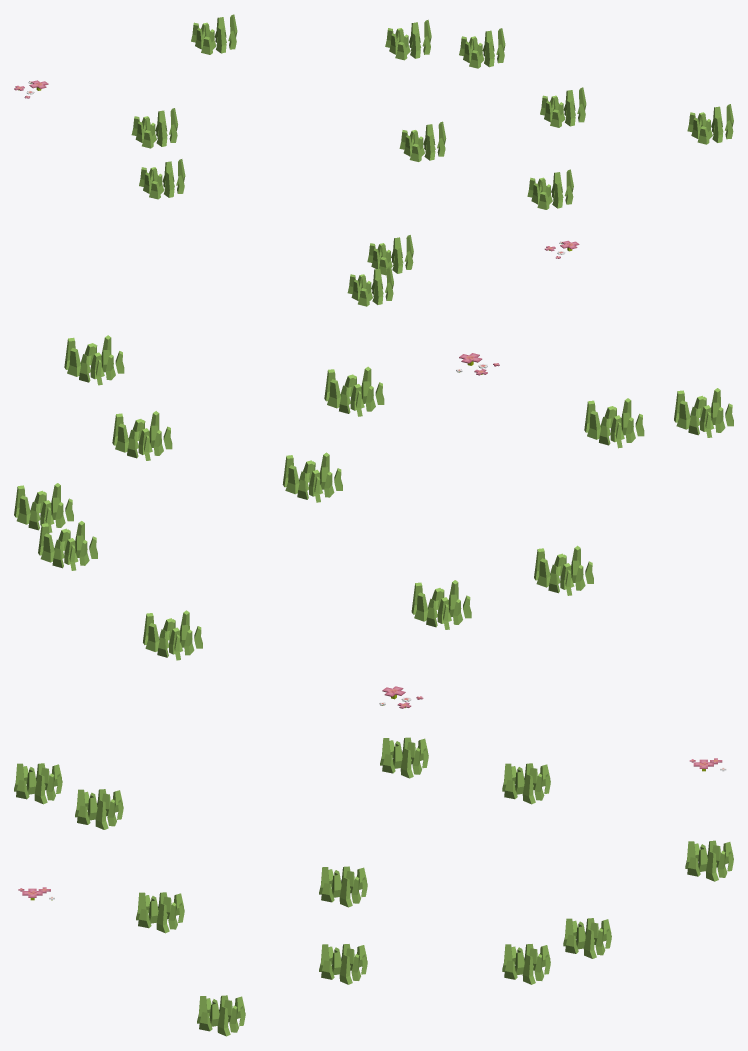
File: flower_grass 5.fbx
The picture shows the model from 3 angles, top to bottom: view 1: azimuth 30°, elevation 25°; view 2: azimuth 150°, elevation 25°; view 3: azimuth 270°, elevation 25°; orthographic projection. The views are drawn at different scales.
Parts seen in each view (by area): view 1: Grass_1; view 2: Grass_1; view 3: Grass_1.
Part boxes in pixels (x1,y1,x2,y2): Grass_1: (14, 14, 733, 306); Grass_1: (14, 335, 733, 708); Grass_1: (14, 737, 733, 1036).
Size of the model in its own units: 6546 by 294 by 7079.
Materials: 2 (2 with a texture image).
